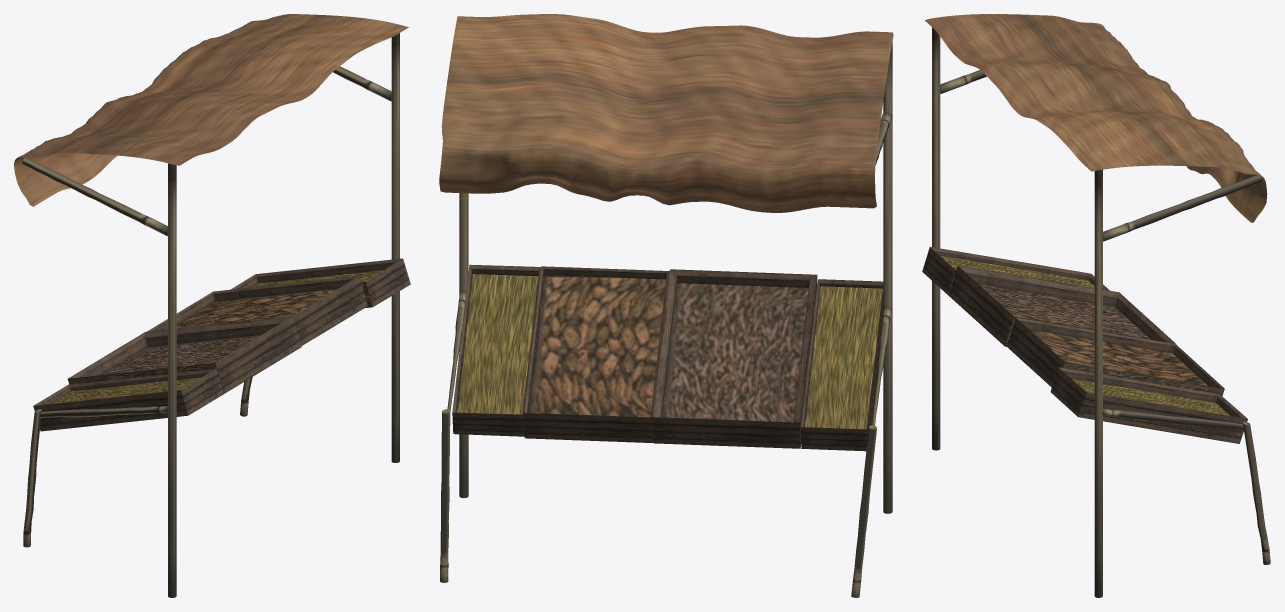
The model's file is Puesto_1.obj.
3 views of the same model, side by side, from view 1: azimuth 30°, elevation 25°; view 2: azimuth 150°, elevation 25°; view 3: azimuth 270°, elevation 25° (orthographic). The views are drawn at different scales.
Visible parts, largest first — view 1: Cart; view 2: Cart; view 3: Cart.
Part boxes in pixels (bbox=[...]): Cart: bbox=[14, 14, 410, 597]; Cart: bbox=[439, 14, 893, 597]; Cart: bbox=[922, 14, 1270, 597].
Size of the model in its own units: 33.18 by 35.88 by 26.09.
7 materials, 7 textured.
